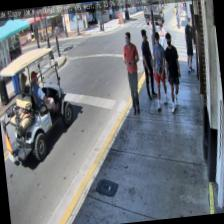person: (120, 31, 144, 114), (149, 30, 171, 110), (162, 31, 184, 111), (139, 28, 157, 99), (182, 17, 198, 73)
